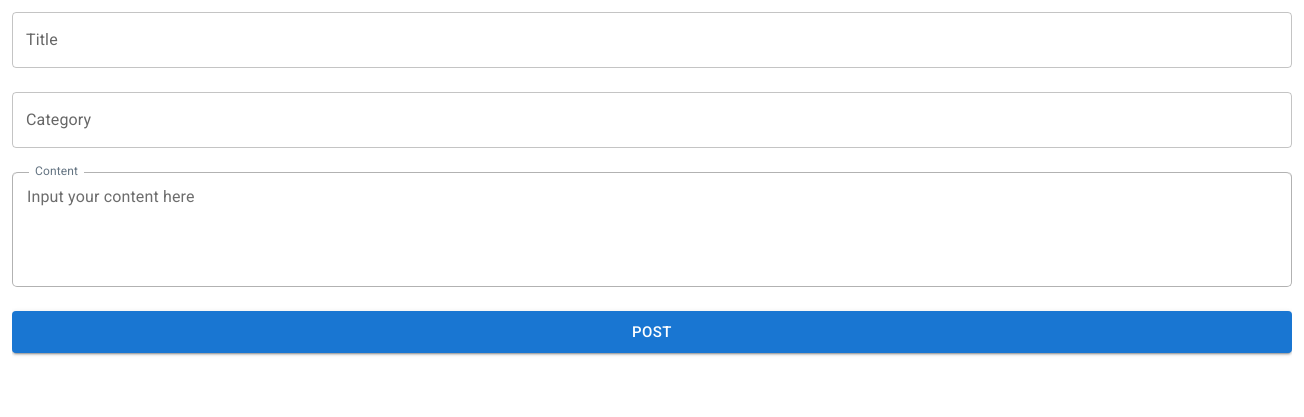
NewThreadInput Component › should showing error msg when button post clicked without input value
The width and height of the screenshot is (1304, 417).
Click the button "Post". click: (652, 332)
box: [12,311,1292,353]
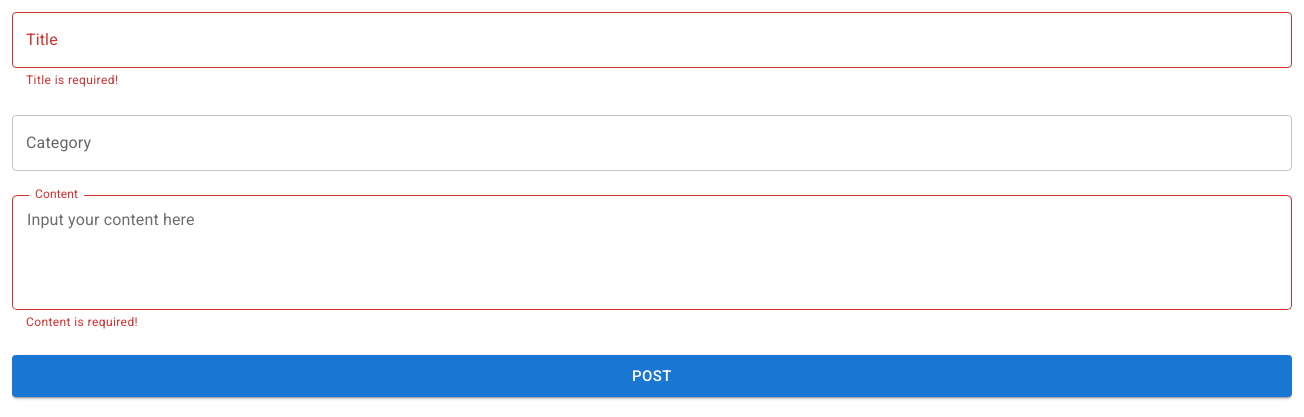
Now the text "Title is required!" is shown, box [26,73,118,87]
Now the text "Content is required!" is shown, box [26,315,138,329]
